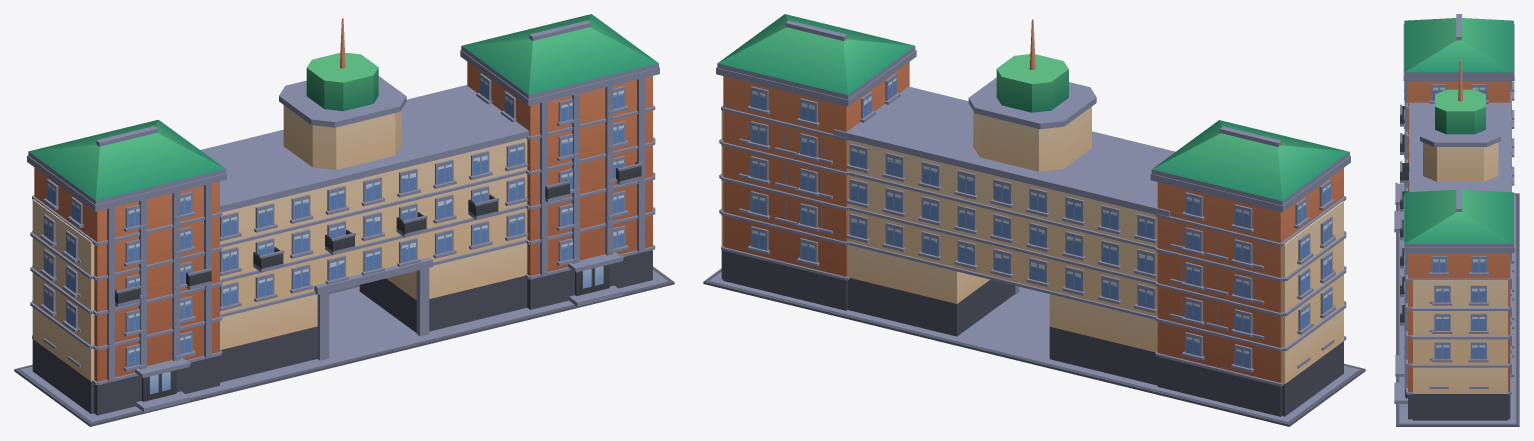
Rendered from res_stalin_block_4x1.glb.
The picture shows the model from 3 angles, left to right: view 1: azimuth 30°, elevation 25°; view 2: azimuth 150°, elevation 25°; view 3: azimuth 270°, elevation 25°; orthographic projection. The views are drawn at different scales.
Parts seen in each view (by area): view 1: res_stalin_block_4x1; view 2: res_stalin_block_4x1; view 3: res_stalin_block_4x1.
Part boxes in pixels (x1,y1,x2,y2): res_stalin_block_4x1: [14, 14, 674, 426]; res_stalin_block_4x1: [703, 14, 1365, 426]; res_stalin_block_4x1: [1394, 14, 1519, 426].
Bounding box in the file's own units: 7.72 × 3.89 × 1.76.
Materials: 1 (1 with a texture image).
